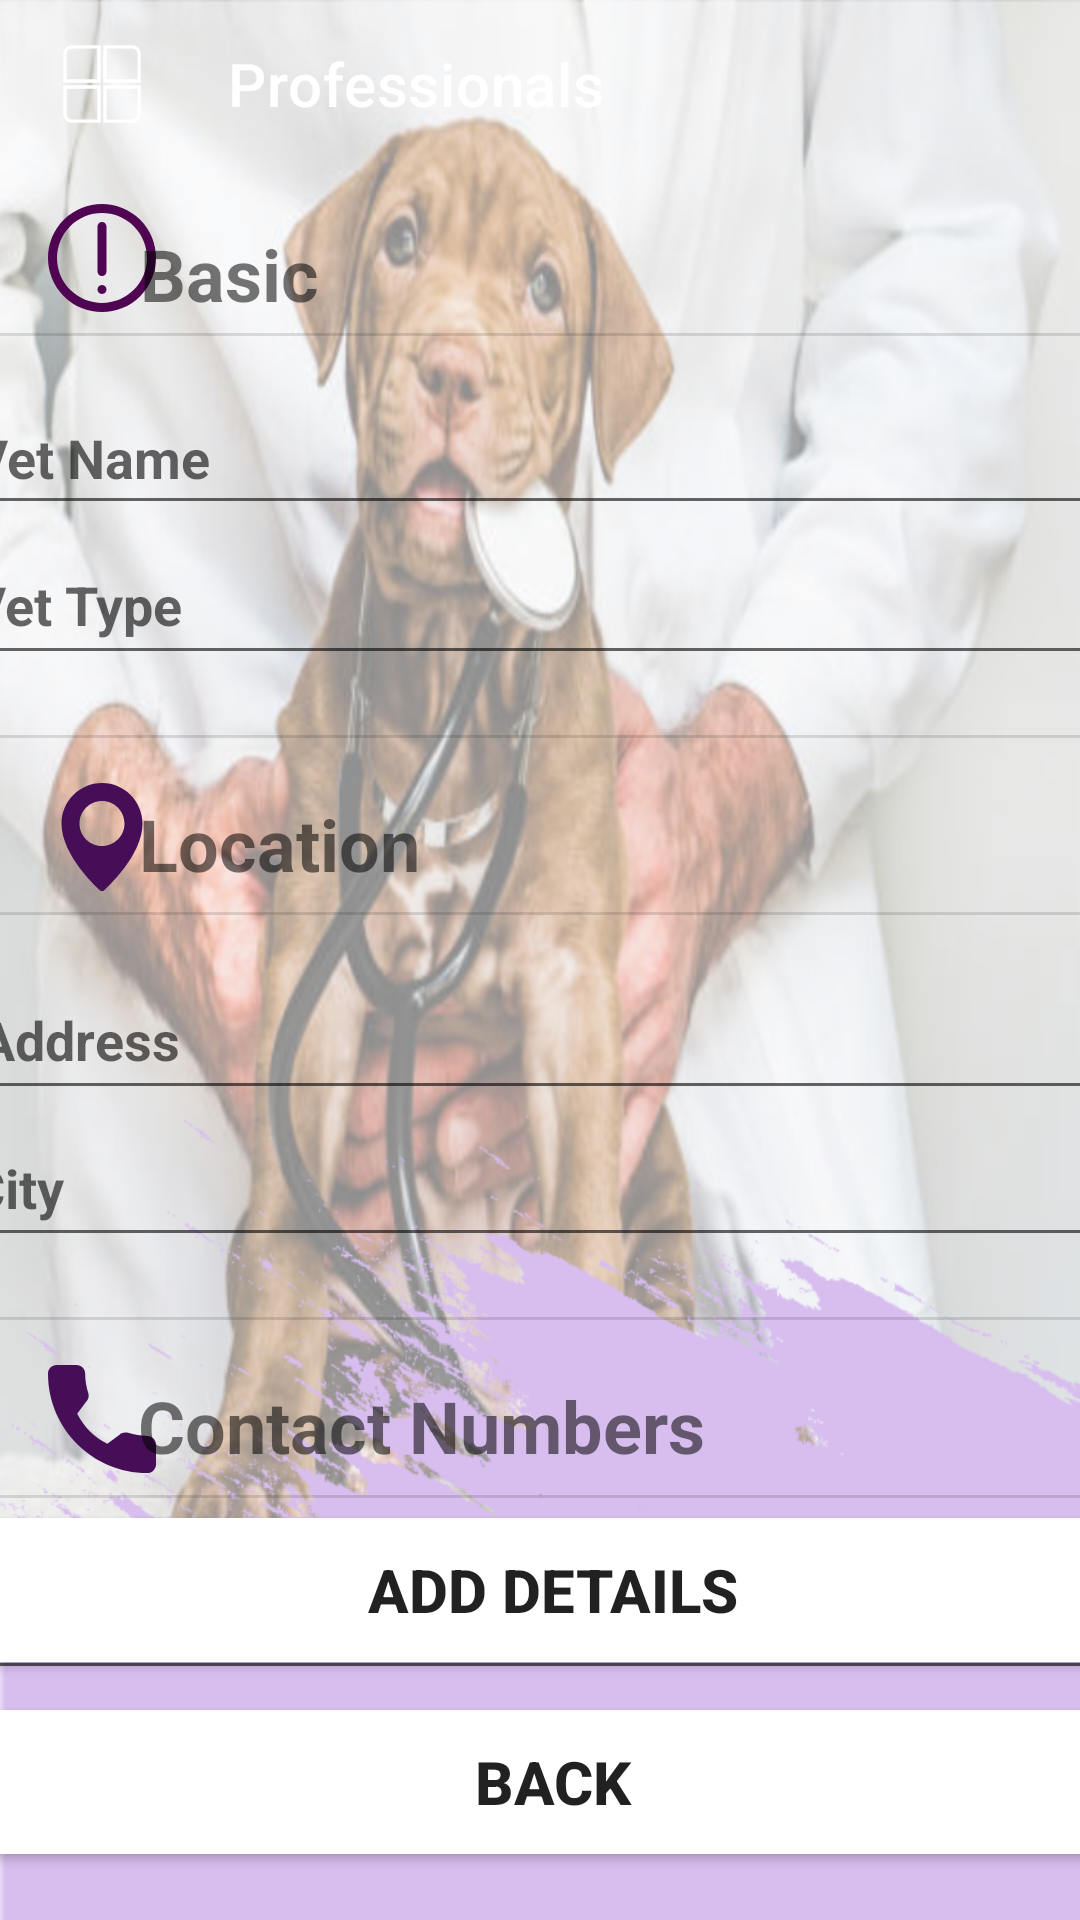

Where icons sit on this 1080 × 1920 app screen, as (x1, y1, x2, y2):
call: (48, 1365, 156, 1473)
exclamation: (48, 204, 156, 312)
